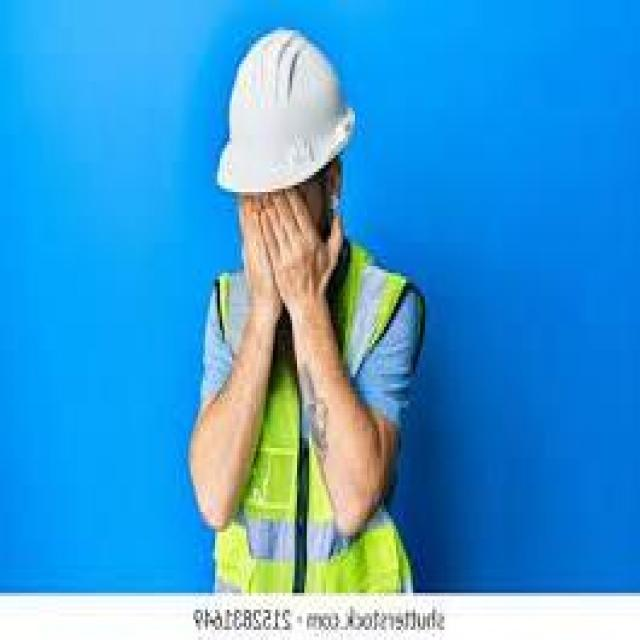Reflective-Jacket: (205, 252, 425, 592)
Safety-Helmet: (215, 24, 357, 202)
